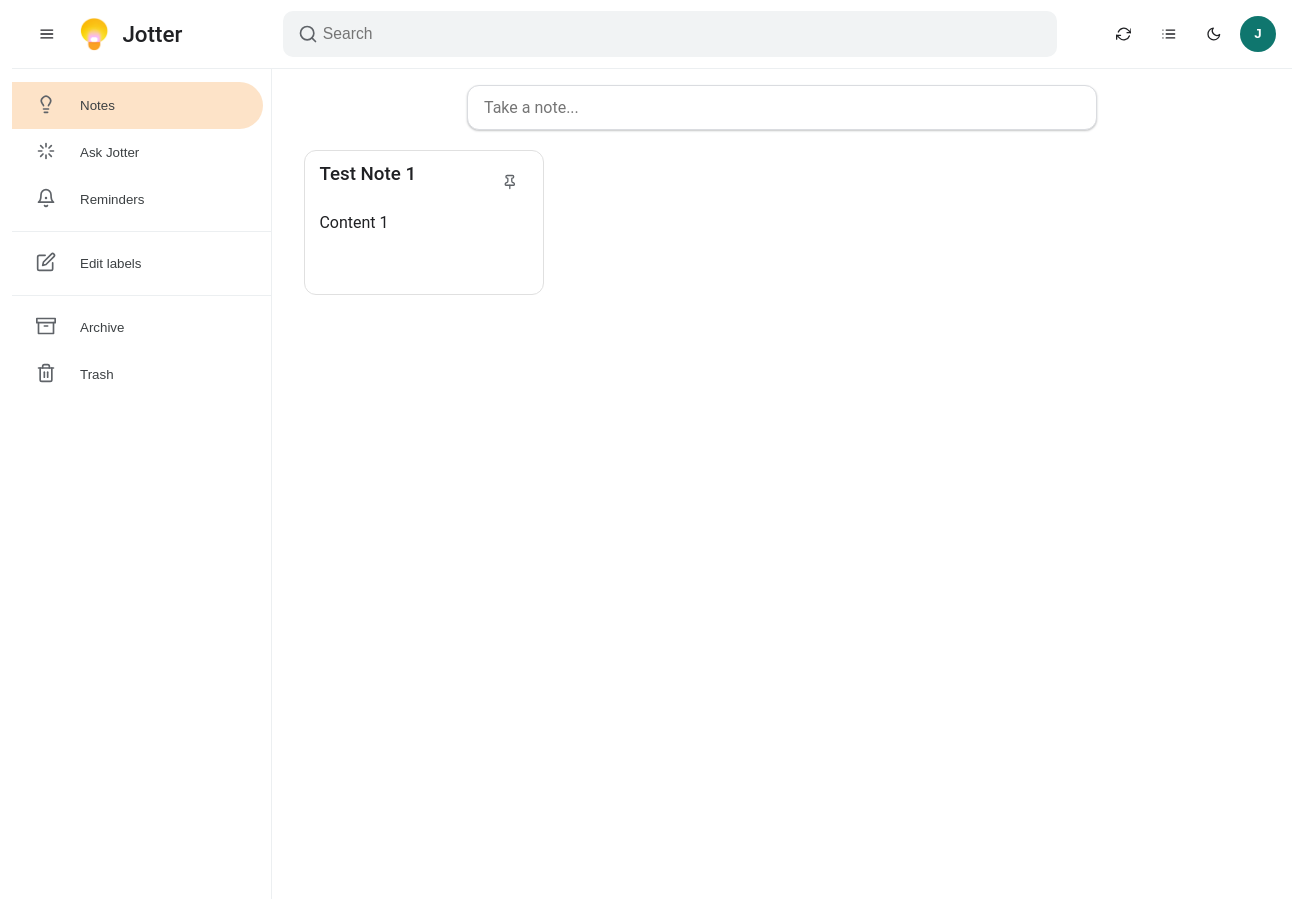
DashboardPage — composer, editing, chat, and misc › surfaces composer AI errors
Expected: the heading "Test Note 1" is shown, [319, 163, 416, 185]
Focus the field with placeholder "Take a note..." at (784, 108), box [482, 97, 1086, 118]
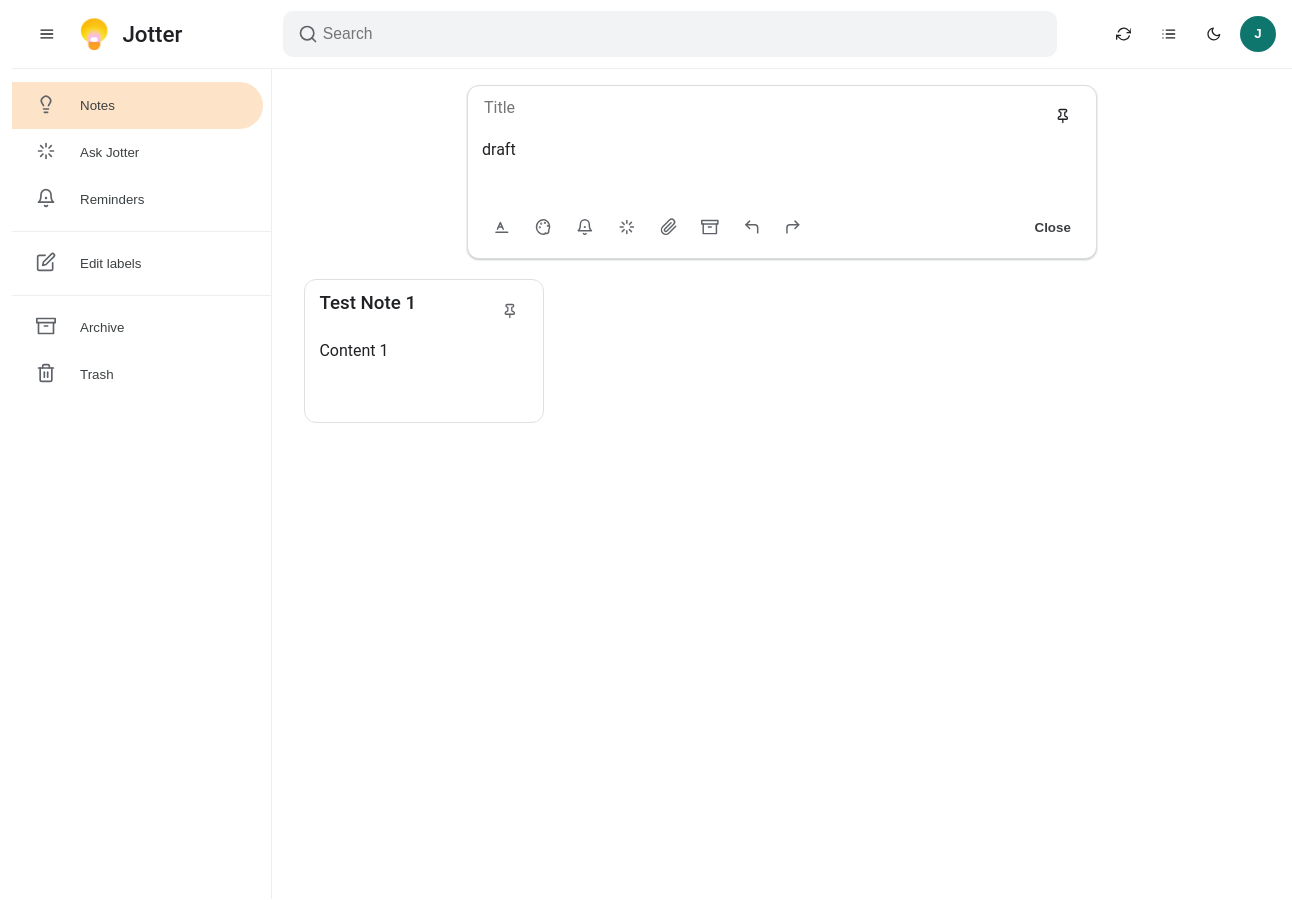
Click the button named "AI actions" at (627, 227), box [607, 207, 647, 247]
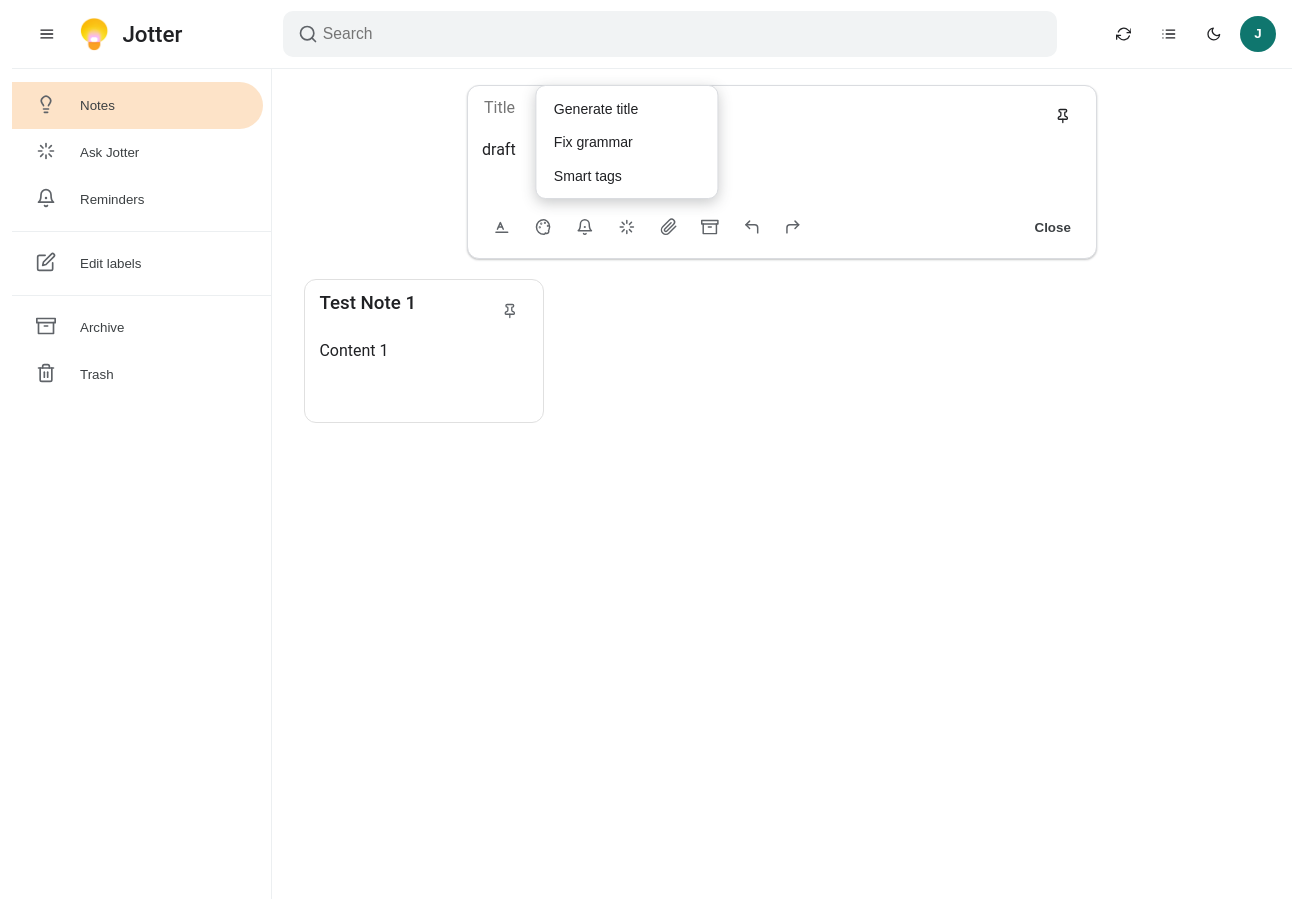
Click the button "Generate title" at (627, 109), box [542, 92, 712, 125]
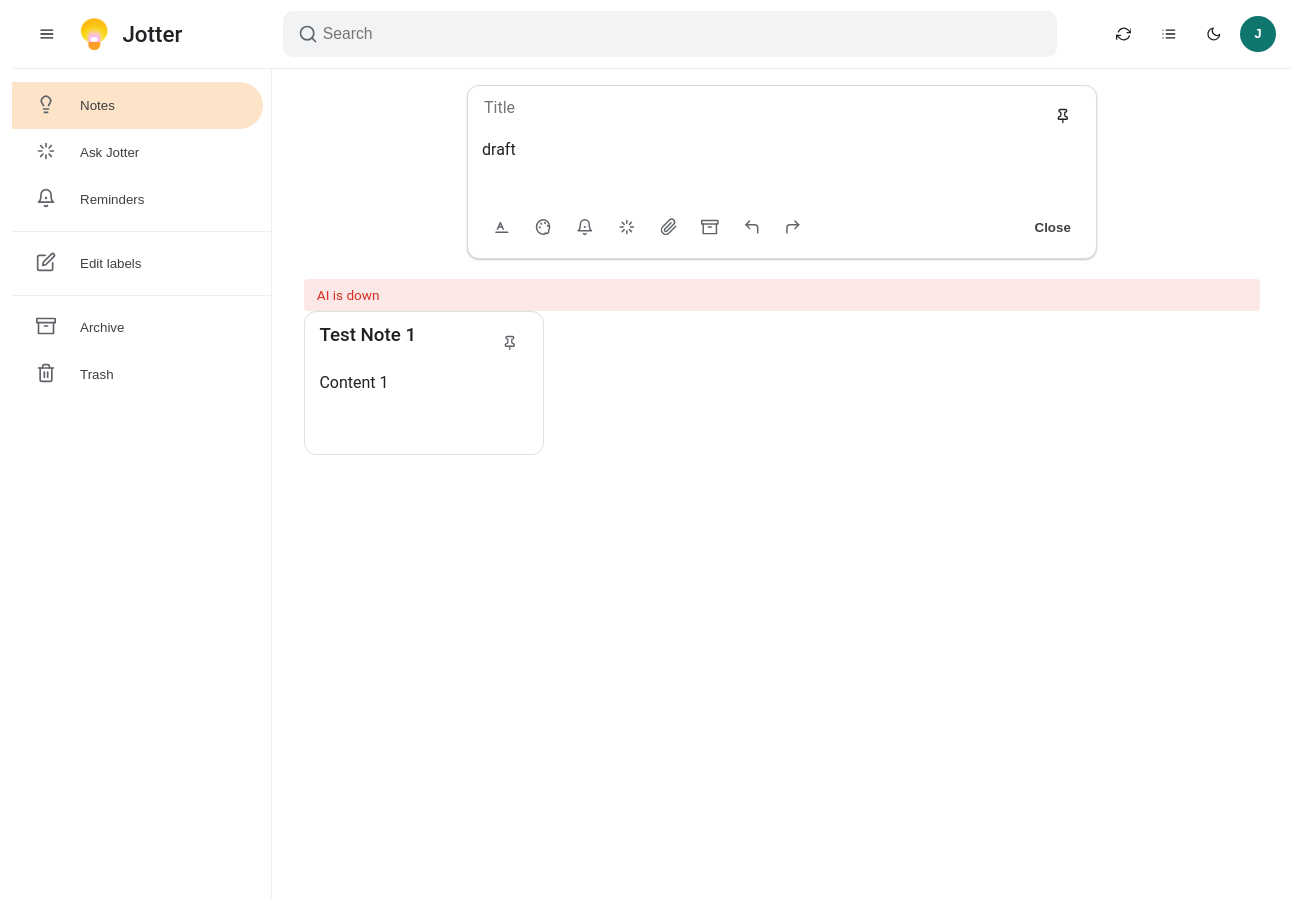
Now the text "AI is down" is shown, box [304, 278, 1260, 310]
